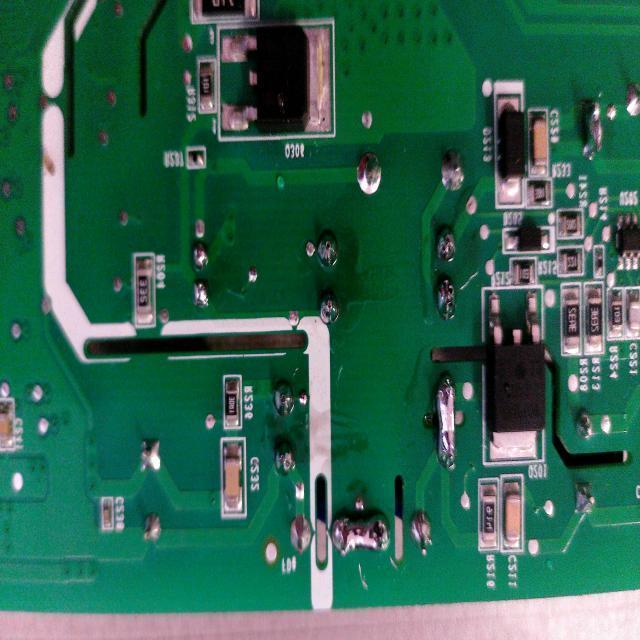Soldering shorted: (328, 503, 391, 561), (434, 374, 457, 481), (580, 92, 606, 168)
